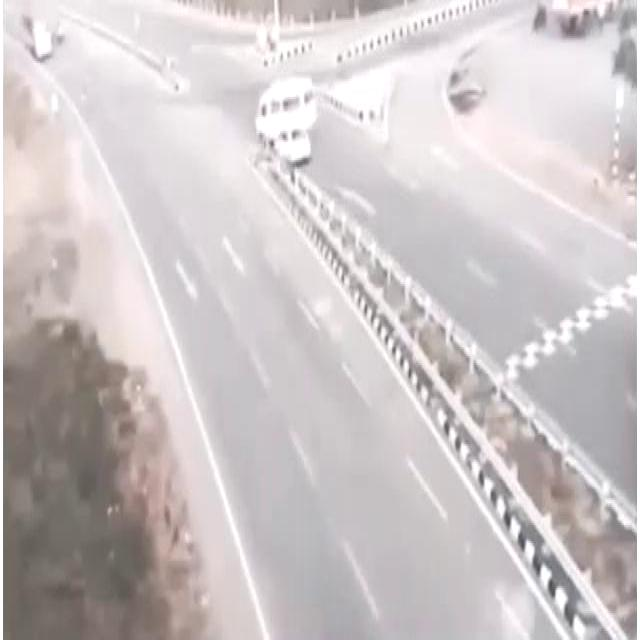accident: (255, 76, 318, 162)
